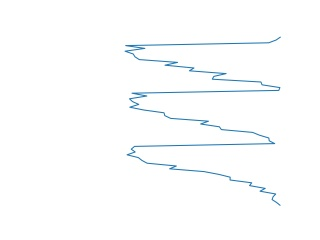distributaryMouthBar: (122, 36, 288, 208)
